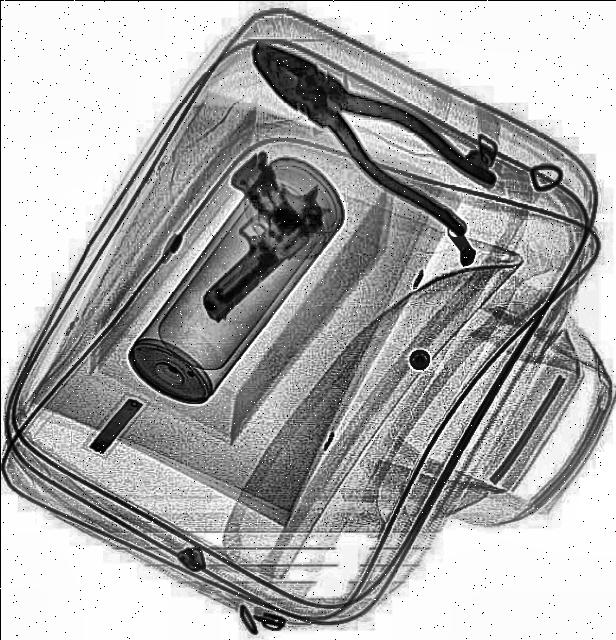Gun: (147, 128, 345, 328)
Pliers: (227, 12, 504, 240)
